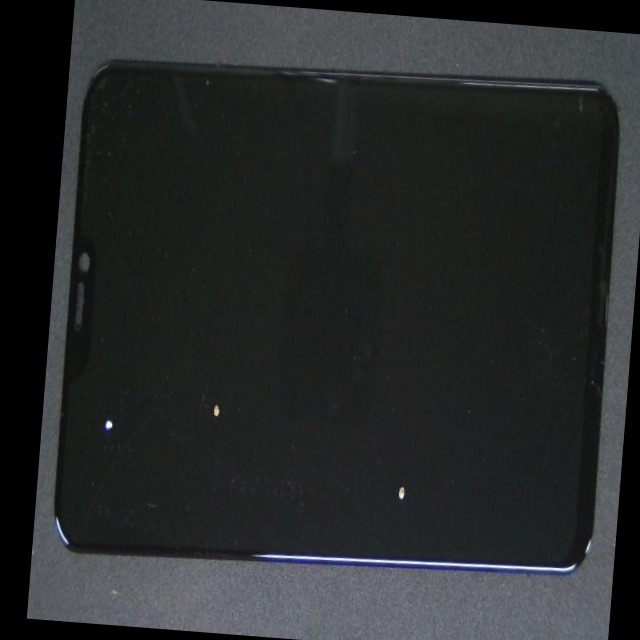stain: (218, 195, 598, 640), (111, 216, 314, 638), (75, 166, 169, 582)
